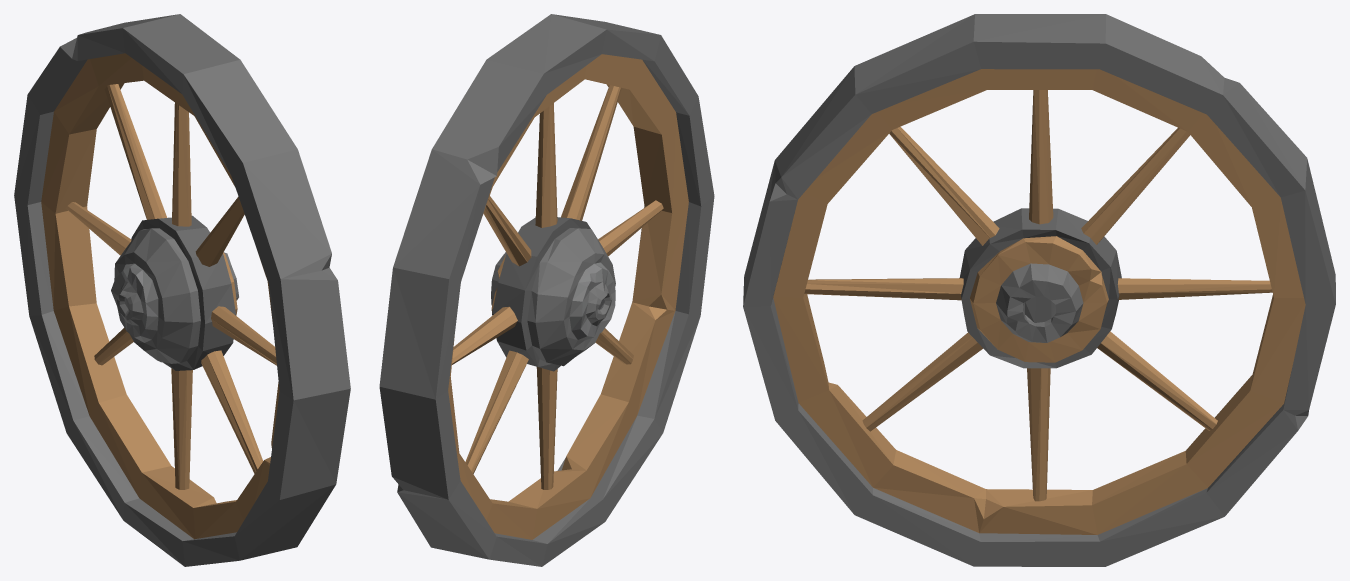
File: SFM_FVC_FaV_Cart_Wheel.fbx
3 renders of one model, left to right at view 1: azimuth 30°, elevation 25°; view 2: azimuth 150°, elevation 25°; view 3: azimuth 270°, elevation 25°, orthographic. The views are drawn at different scales.
Visible parts, largest first — view 1: SFM_FVC_FaV_Cart_Wheel; view 2: SFM_FVC_FaV_Cart_Wheel; view 3: SFM_FVC_FaV_Cart_Wheel.
Part boxes in pixels (bbox=[...]): SFM_FVC_FaV_Cart_Wheel: bbox=[14, 14, 350, 566]; SFM_FVC_FaV_Cart_Wheel: bbox=[379, 14, 714, 566]; SFM_FVC_FaV_Cart_Wheel: bbox=[743, 14, 1335, 566].
Bounding box in the file's own units: 28.39 × 130 × 133.
